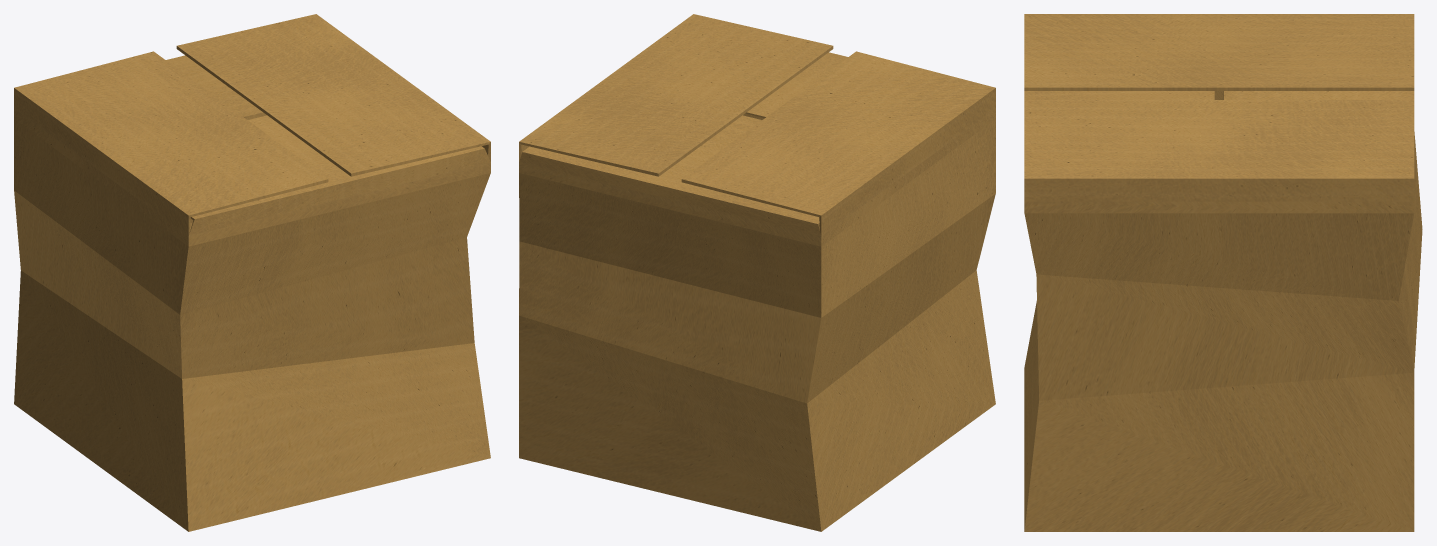
Rendered from Caixa2.fbx.
3 views of the same model, side by side, from view 1: azimuth 30°, elevation 25°; view 2: azimuth 150°, elevation 25°; view 3: azimuth 270°, elevation 25° (orthographic). The views are drawn at different scales.
Parts seen in each view (by area): view 1: Cube.001; view 2: Cube.001; view 3: Cube.001.
Boxes of the visible parts, left/top/right/bottom form: Cube.001: left=14, top=14, right=490, bottom=531; Cube.001: left=519, top=14, right=995, bottom=531; Cube.001: left=1024, top=14, right=1422, bottom=531.
Size of the model in its own units: 2.07 by 2.04 by 2.01.
1 material, 1 textured.
